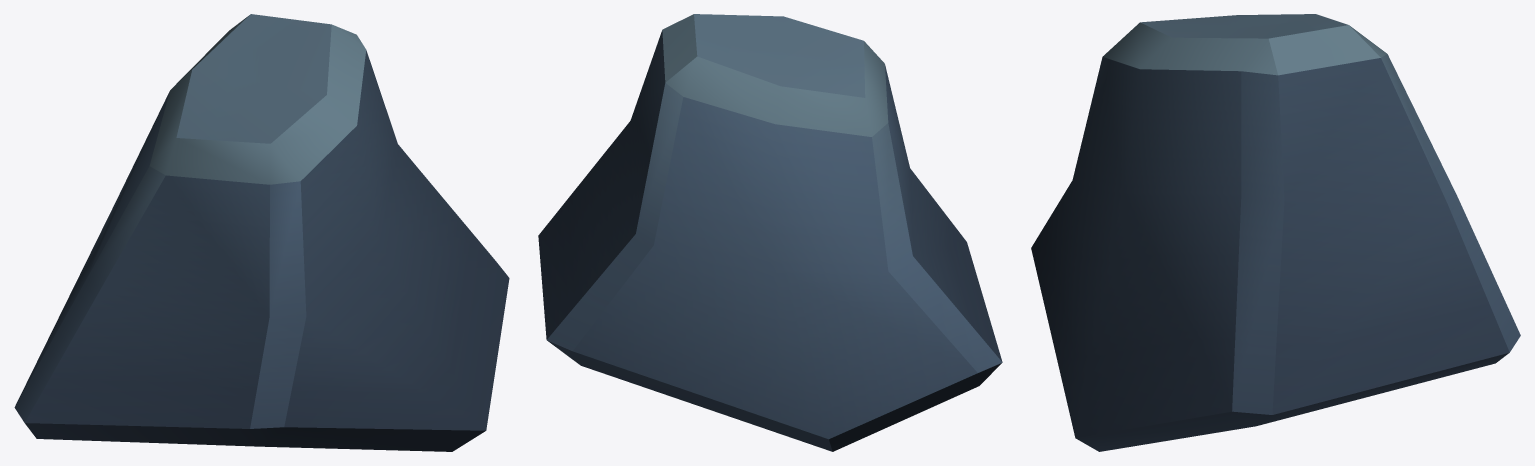
Rendered from rock_small_3.glb.
3 renders of one model, left to right at view 1: azimuth 30°, elevation 25°; view 2: azimuth 150°, elevation 25°; view 3: azimuth 270°, elevation 25°, orthographic. The views are drawn at different scales.
Parts seen in each view (by area): view 1: rock_small_3; view 2: rock_small_3; view 3: rock_small_3.
Part boxes in pixels (bbox=[...]): rock_small_3: bbox=[14, 14, 509, 451]; rock_small_3: bbox=[538, 14, 1002, 451]; rock_small_3: bbox=[1031, 14, 1520, 451].
Bounding box in the file's own units: 1.38 × 1.02 × 1.15.
Materials: 1 (1 with a texture image).
